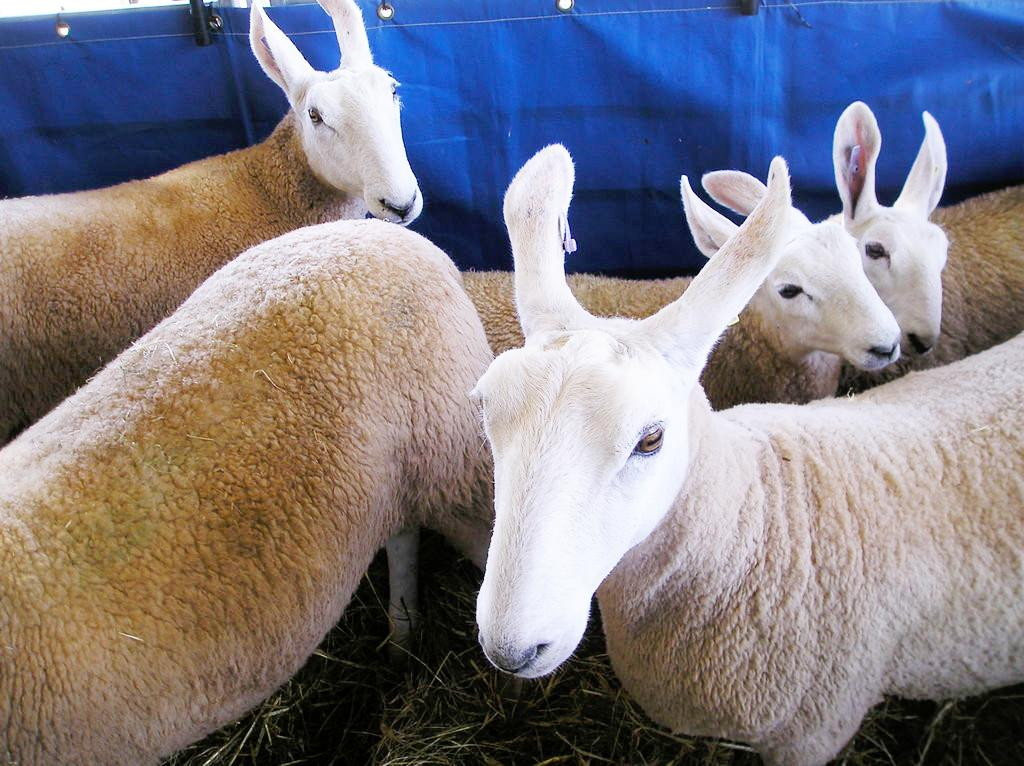Sheep: (464, 140, 1023, 766), (0, 215, 495, 765), (0, 0, 422, 446), (464, 170, 901, 409), (828, 102, 1024, 393)
